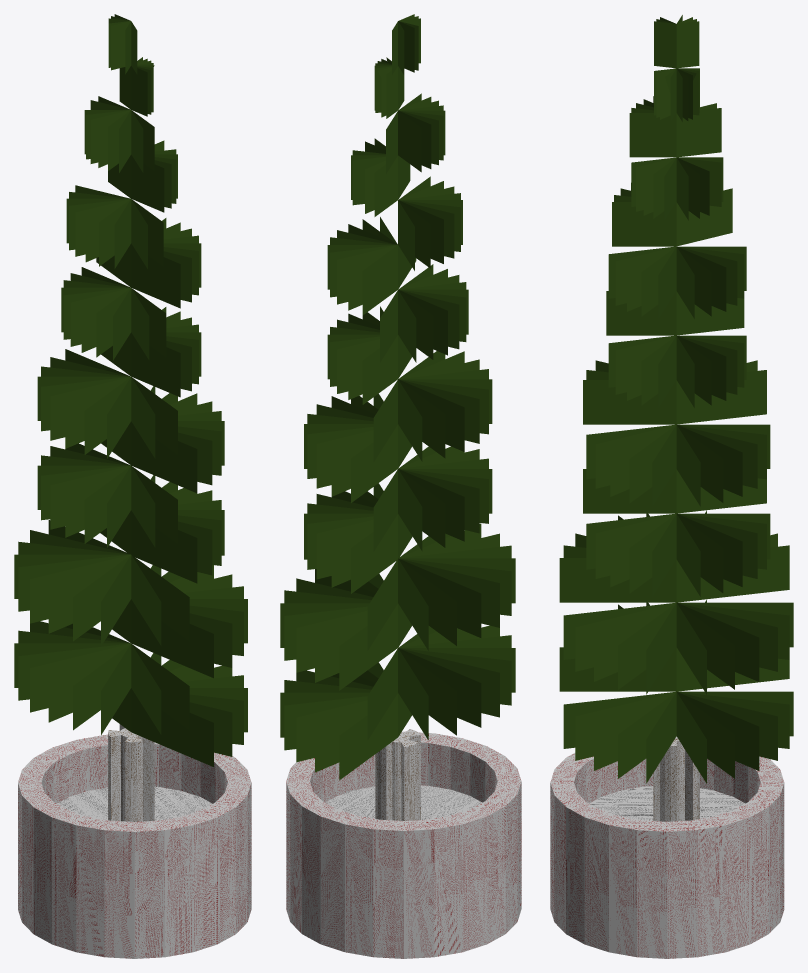
The picture shows the model from 3 angles, left to right: view 1: azimuth 30°, elevation 25°; view 2: azimuth 150°, elevation 25°; view 3: azimuth 270°, elevation 25°; orthographic projection.
Visible parts, largest first — view 1: mesh446_mesh446-geometry, mesh445_mesh445-geometry, mesh430_mesh430-geometry, mesh427_mesh427-geometry, mesh429_mesh429-geometry, mesh432_mesh432-geometry, mesh226_mesh226-geometry, mesh436_mesh436-geometry, mesh434_mesh434-geometry, mesh328_mesh328-geometry, mesh243_mesh243-geometry, mesh311_mesh311-geometry (+74 smaller); view 2: mesh446_mesh446-geometry, mesh445_mesh445-geometry, mesh223_mesh223-geometry, mesh225_mesh225-geometry, mesh226_mesh226-geometry, mesh243_mesh243-geometry, mesh345_mesh345-geometry, mesh228_mesh228-geometry, mesh277_mesh277-geometry, mesh362_mesh362-geometry, mesh430_mesh430-geometry, mesh328_mesh328-geometry (+68 smaller); view 3: mesh446_mesh446-geometry, mesh226_mesh226-geometry, mesh430_mesh430-geometry, mesh229_mesh229-geometry, mesh445_mesh445-geometry, mesh433_mesh433-geometry, mesh233_mesh233-geometry, mesh224_mesh224-geometry, mesh227_mesh227-geometry, mesh231_mesh231-geometry, mesh235_mesh235-geometry, mesh439_mesh439-geometry (+75 smaller).
Boxes of the visible parts, x1,y1,x2,y2 form: mesh446_mesh446-geometry: (18, 734, 251, 958); mesh445_mesh445-geometry: (108, 724, 154, 821); mesh430_mesh430-geometry: (48, 510, 197, 583); mesh427_mesh427-geometry: (131, 688, 213, 766); mesh429_mesh429-geometry: (131, 599, 213, 678); mesh432_mesh432-geometry: (131, 422, 197, 493); mesh226_mesh226-geometry: (100, 510, 189, 641); mesh436_mesh436-geometry: (131, 244, 180, 308); mesh434_mesh434-geometry: (131, 333, 180, 397); mesh328_mesh328-geometry: (48, 488, 197, 633); mesh243_mesh243-geometry: (30, 490, 212, 623); mesh311_mesh311-geometry: (73, 482, 177, 641); mesh446_mesh446-geometry: (286, 731, 521, 958); mesh445_mesh445-geometry: (375, 729, 420, 820); mesh223_mesh223-geometry: (339, 693, 397, 780); mesh225_mesh225-geometry: (339, 604, 397, 690); mesh226_mesh226-geometry: (351, 514, 450, 593); mesh243_mesh243-geometry: (316, 494, 499, 627); mesh345_mesh345-geometry: (332, 491, 481, 637); mesh228_mesh228-geometry: (351, 425, 397, 502); mesh277_mesh277-geometry: (316, 519, 499, 579); mesh362_mesh362-geometry: (359, 491, 456, 645); mesh430_mesh430-geometry: (367, 514, 412, 650); mesh328_mesh328-geometry: (307, 503, 511, 615); mesh446_mesh446-geometry: (550, 753, 784, 958); mesh226_mesh226-geometry: (559, 513, 770, 602); mesh430_mesh430-geometry: (586, 513, 789, 602); mesh229_mesh229-geometry: (583, 380, 676, 424); mesh445_mesh445-geometry: (653, 736, 699, 821); mesh433_mesh433-geometry: (676, 370, 766, 424); mesh233_mesh233-geometry: (612, 202, 676, 246); mesh224_mesh224-geometry: (559, 647, 676, 691); mesh227_mesh227-geometry: (583, 469, 676, 513); mesh231_mesh231-geometry: (606, 291, 676, 335); mesh235_mesh235-geometry: (629, 113, 676, 157); mesh439_mesh439-geometry: (676, 108, 721, 157).
Size of the model in its own units: 0.2273 by 0.945 by 0.235.
